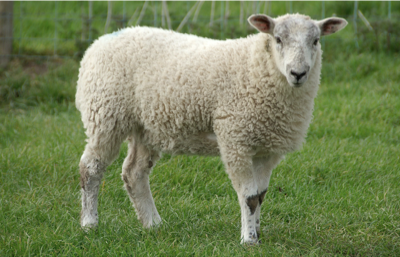koyun: (75, 14, 349, 246)
